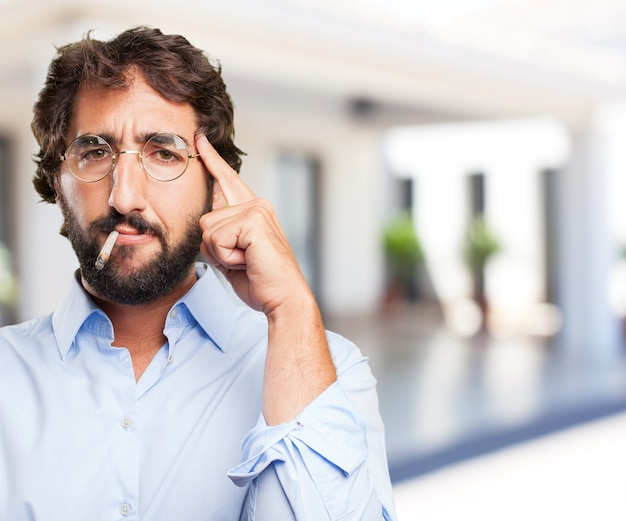cigarette: (91, 230, 122, 273)
